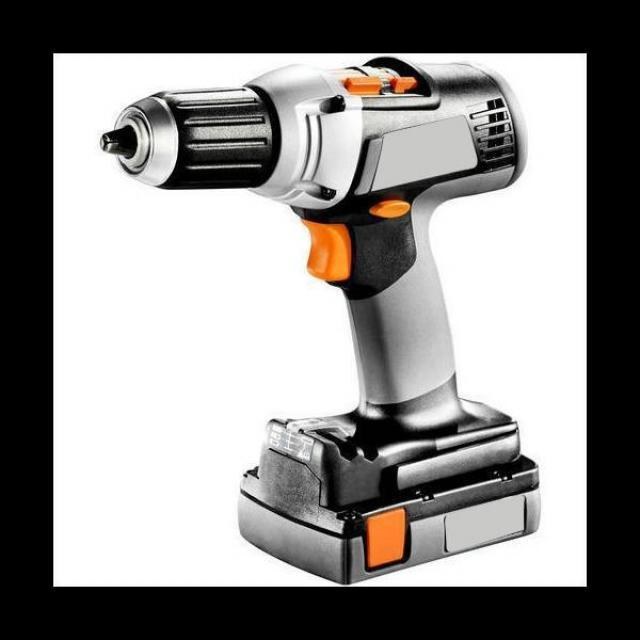drill: (99, 56, 540, 584)
